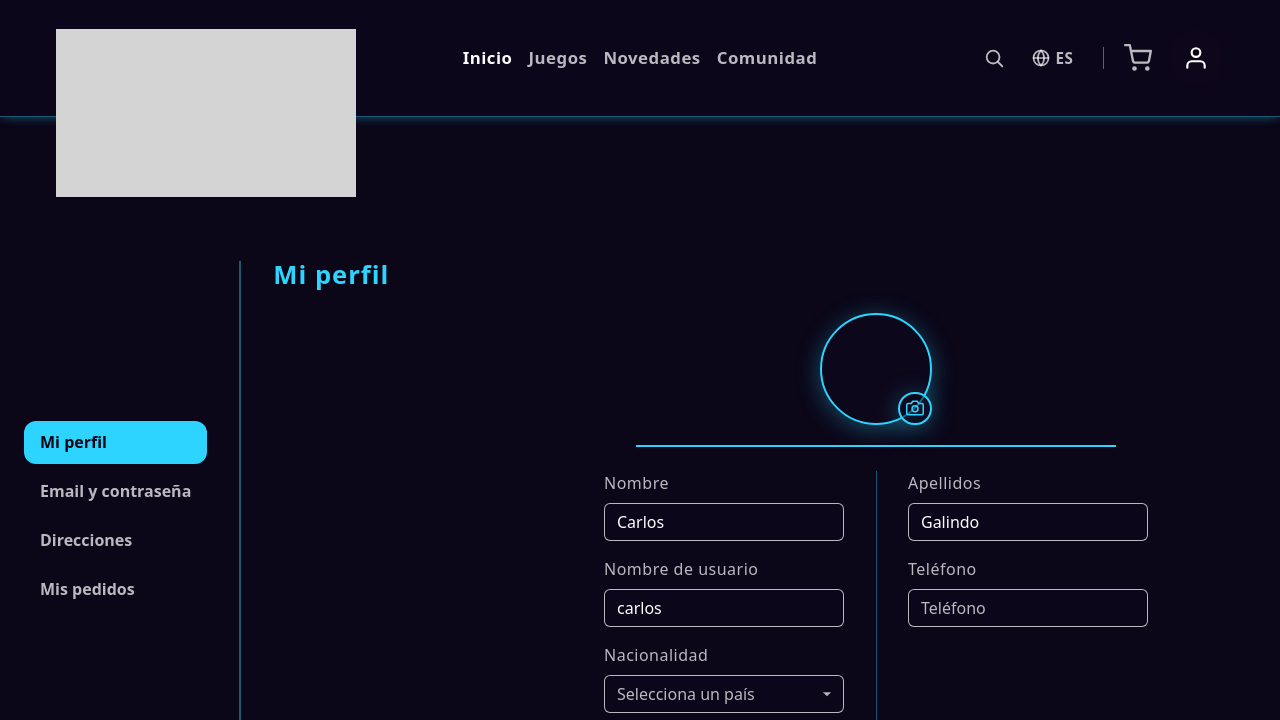
Test: MiCuenta › al pulsar "Direcciones" en el menú, cambia el panel de contenido
This screenshot has width=1280, height=720.
Expected: the field showing "Carlos" is shown, [604, 503, 844, 541]
Click the link "Direcciones": (86, 540) [40, 529, 132, 551]
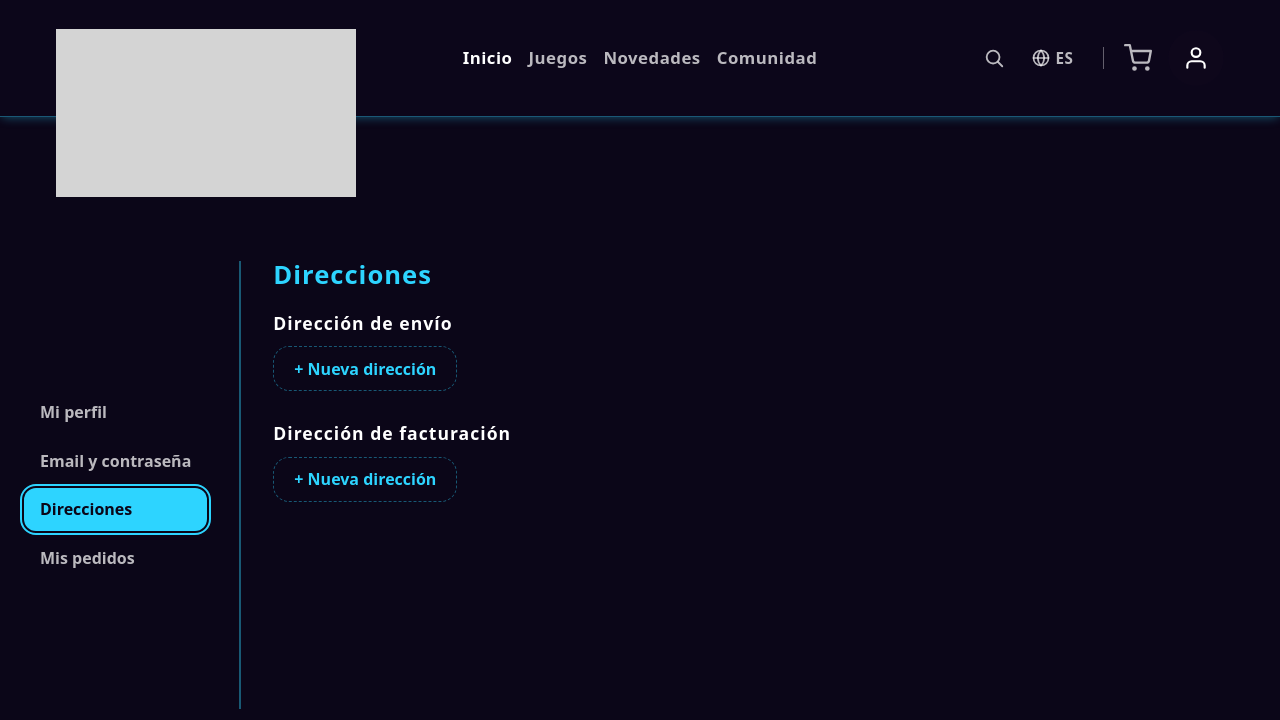
Result: the number of buttons "+ Nueva dirección" is 2 at [273, 346, 457, 392]; [273, 456, 457, 502]
